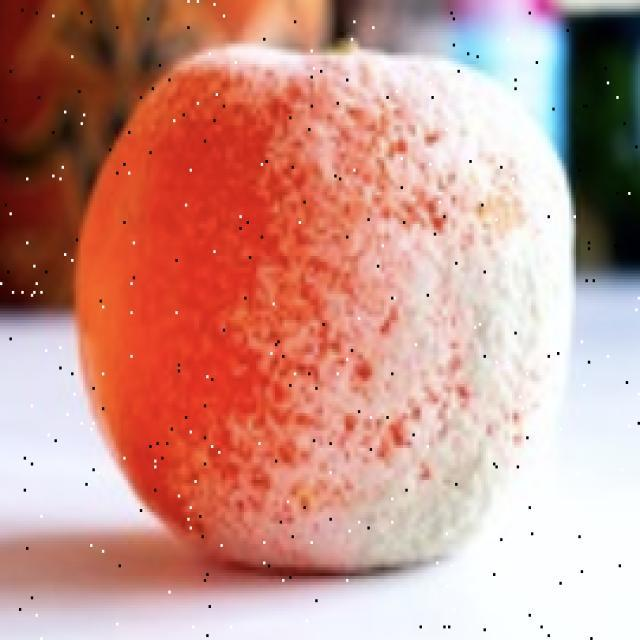sangat-busuk: (77, 46, 568, 569)
